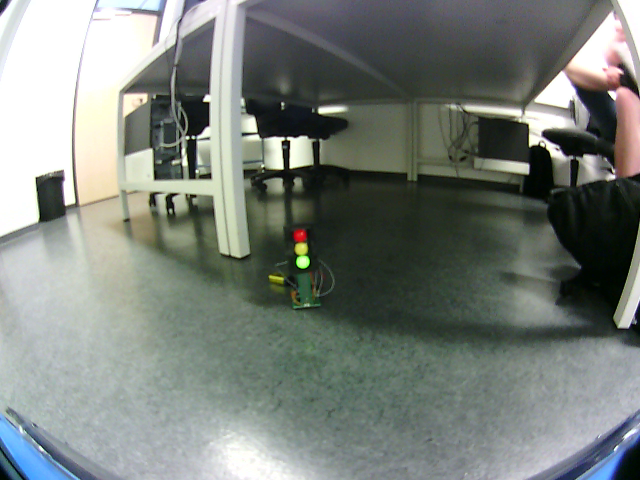green trafficlight: (288, 226, 312, 272)
